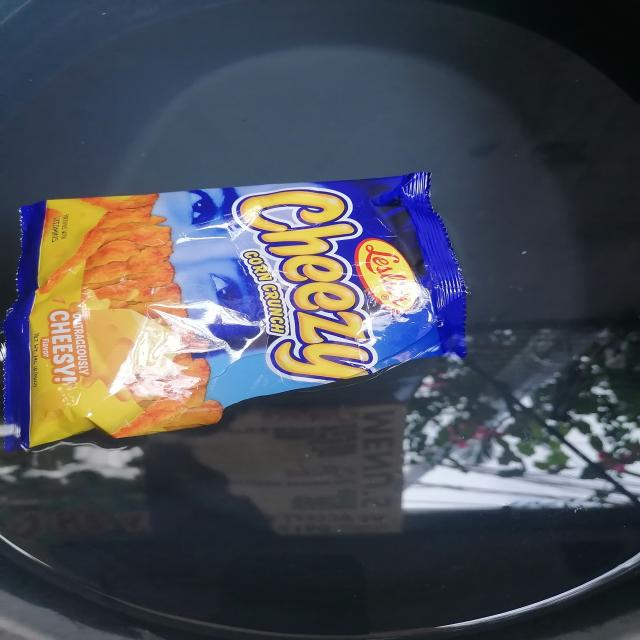Plastic Wrapper: (4, 173, 466, 451)
